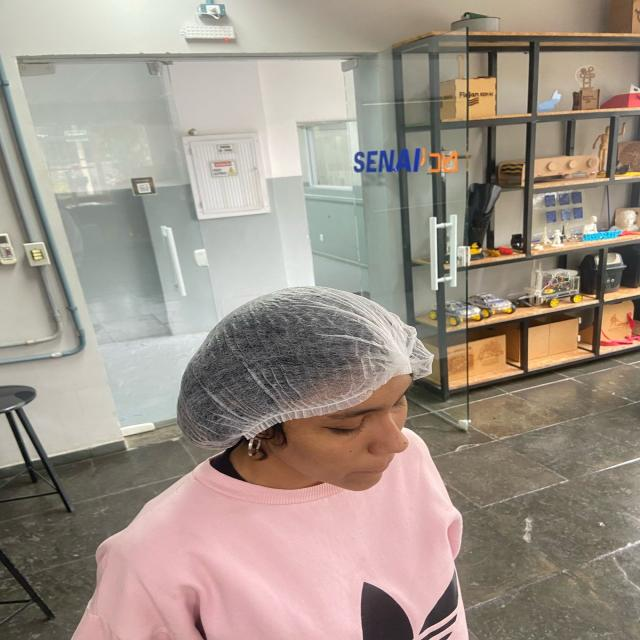TOUCA: (174, 282, 438, 456)
